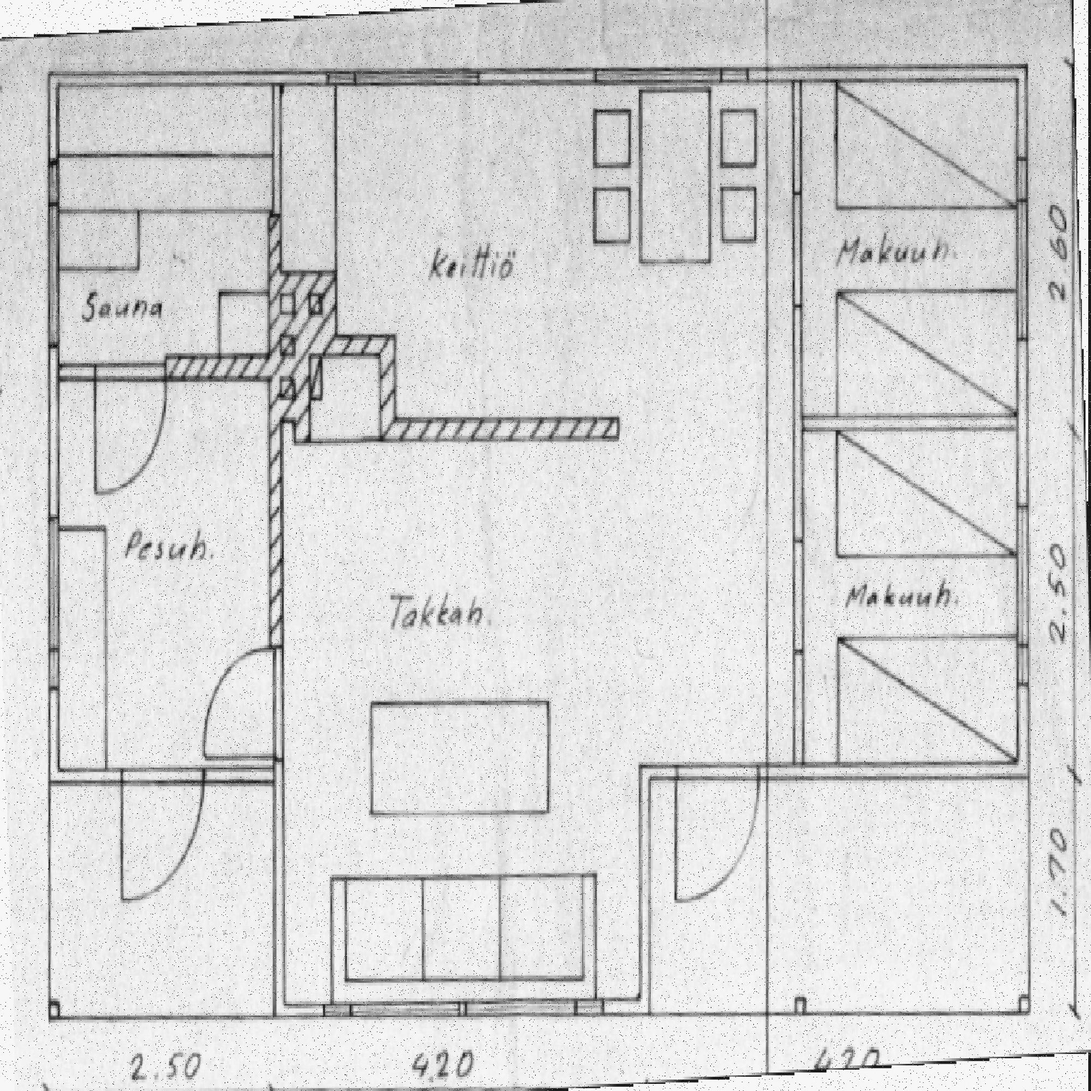wall: (48, 67, 1025, 81), (48, 66, 58, 782), (1015, 67, 1024, 775), (267, 419, 284, 782), (269, 269, 336, 355), (639, 762, 1025, 776), (794, 67, 801, 775), (274, 1001, 648, 1013), (380, 419, 620, 437), (794, 416, 1025, 430), (269, 355, 310, 420), (166, 355, 269, 379), (49, 771, 267, 782), (268, 336, 394, 355), (638, 761, 647, 1011), (274, 771, 282, 1013), (49, 363, 166, 379), (380, 336, 394, 439), (275, 81, 283, 212), (269, 212, 283, 269), (295, 420, 310, 442), (267, 771, 282, 782)
